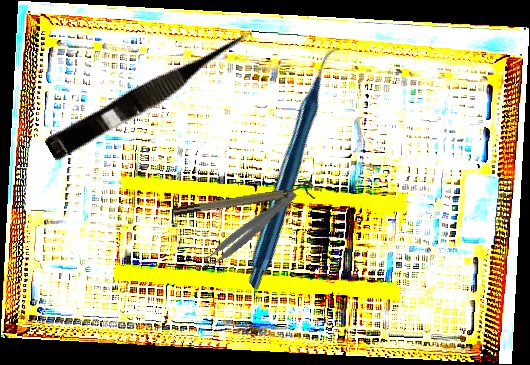Fixation Ring: (170, 179, 317, 219)
Handpiece: (166, 44, 426, 292)
Micro Scissor: (43, 24, 260, 167)
Tissue Forceps: (197, 184, 301, 273)
